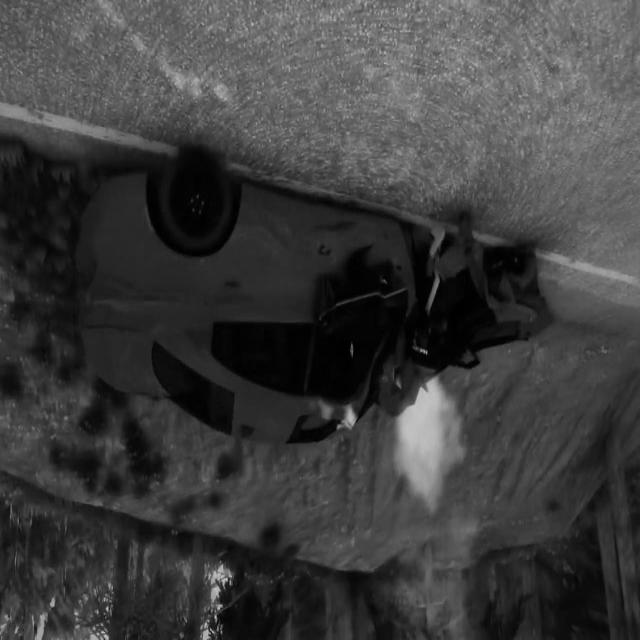severe: (71, 145, 559, 455)
